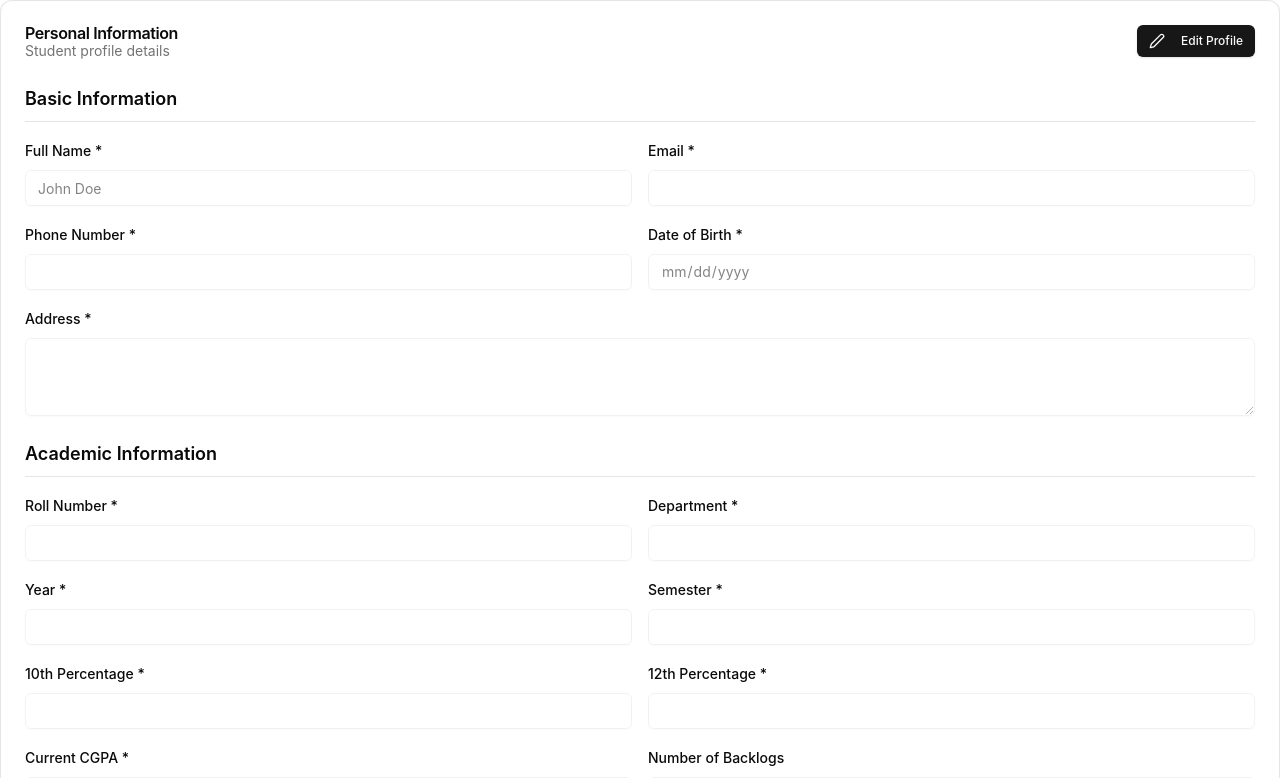
it: ProfileForm Component › Moderator Role - Full Access › should toggle between edit and cancel modes
This screenshot has width=1280, height=778.
Click edit
Click the button "Edit Profile" at x=1196, y=41, box [1137,25,1255,57]
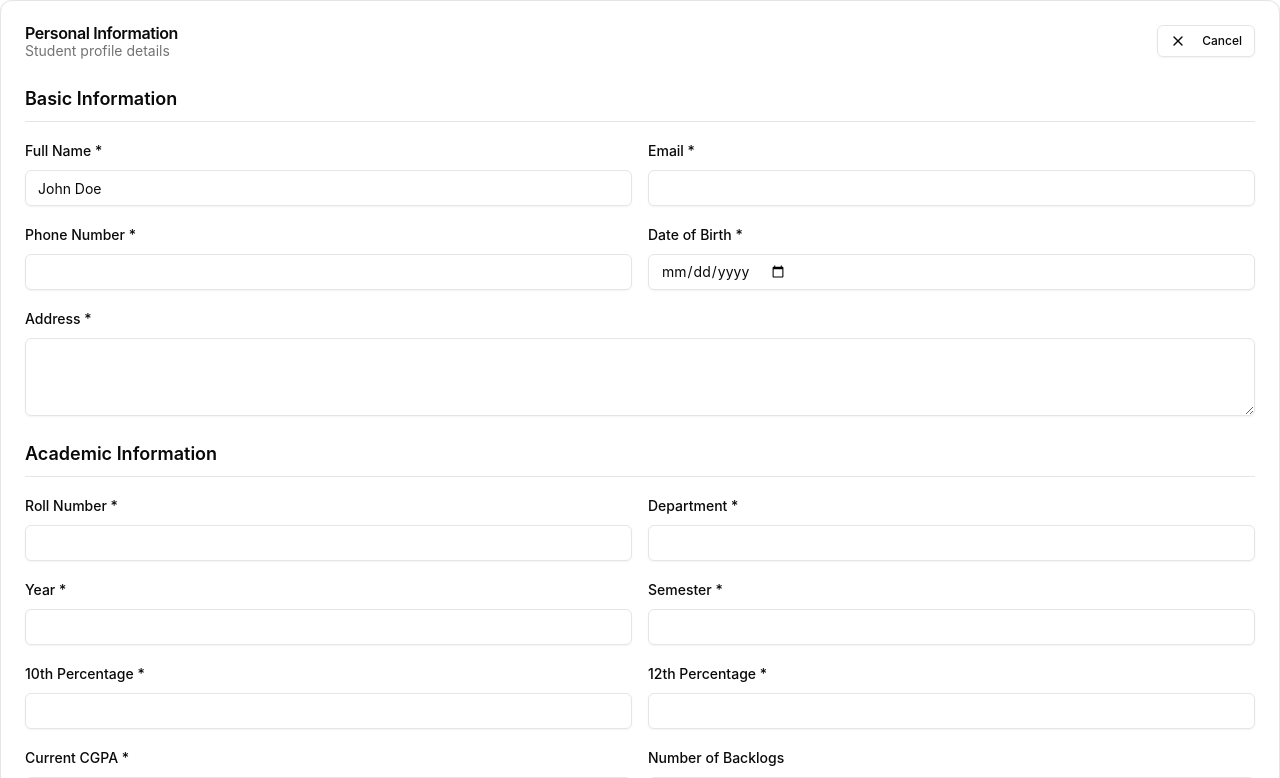
Expected: the button "Cancel" is shown
Click cancel
Click the button "Cancel" at x=1206, y=41, box [1157,25,1255,57]
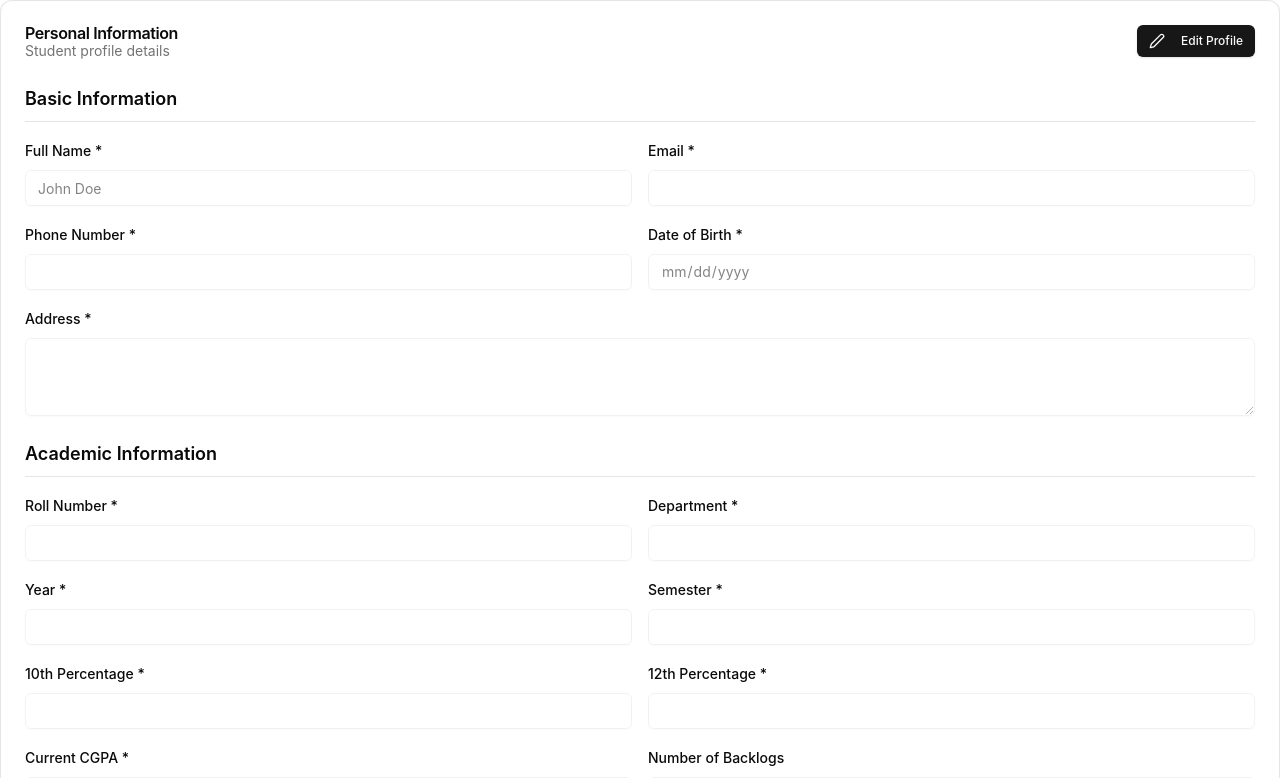
Expected: the button "Edit Profile" is shown, [1137,25,1255,57]
